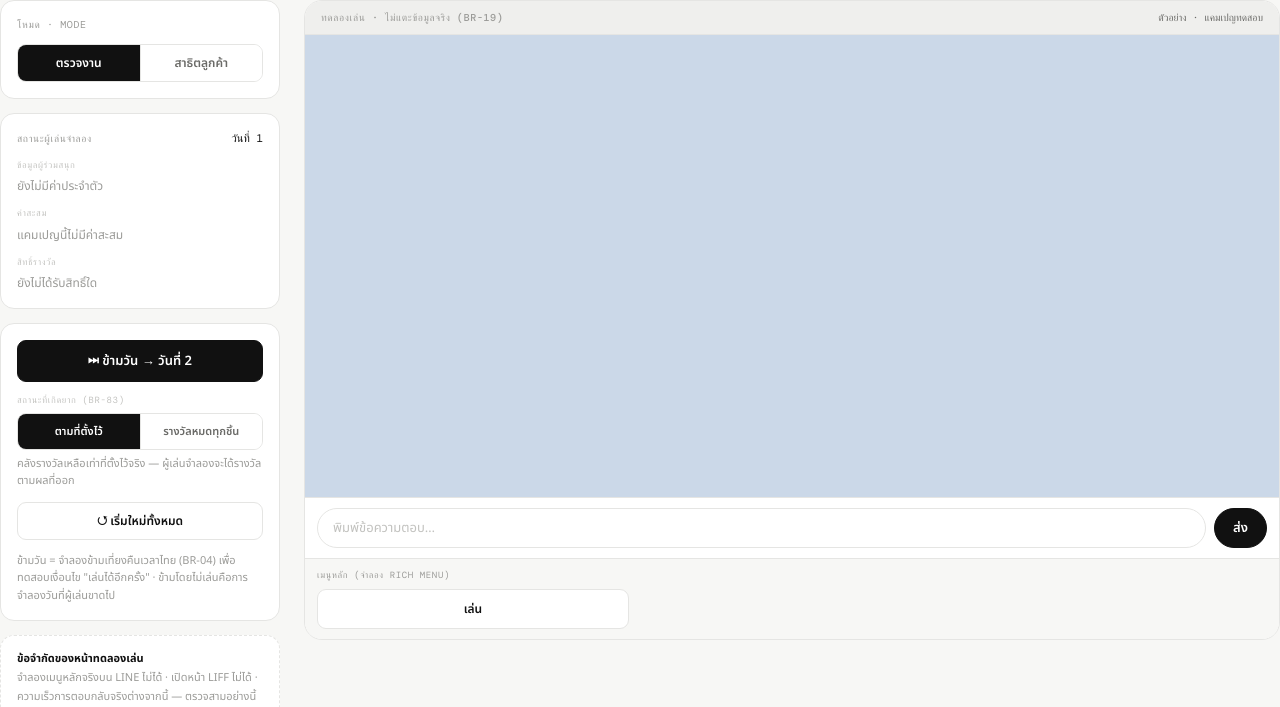
พิมพ์คุยกับกติกา › ข้อความของเราขึ้นก่อนคำตอบเสมอ
In the field with placeholder "พิมพ์ข้อความตอบ…": (762, 528) [317,508,1206,548], type "เล่น"
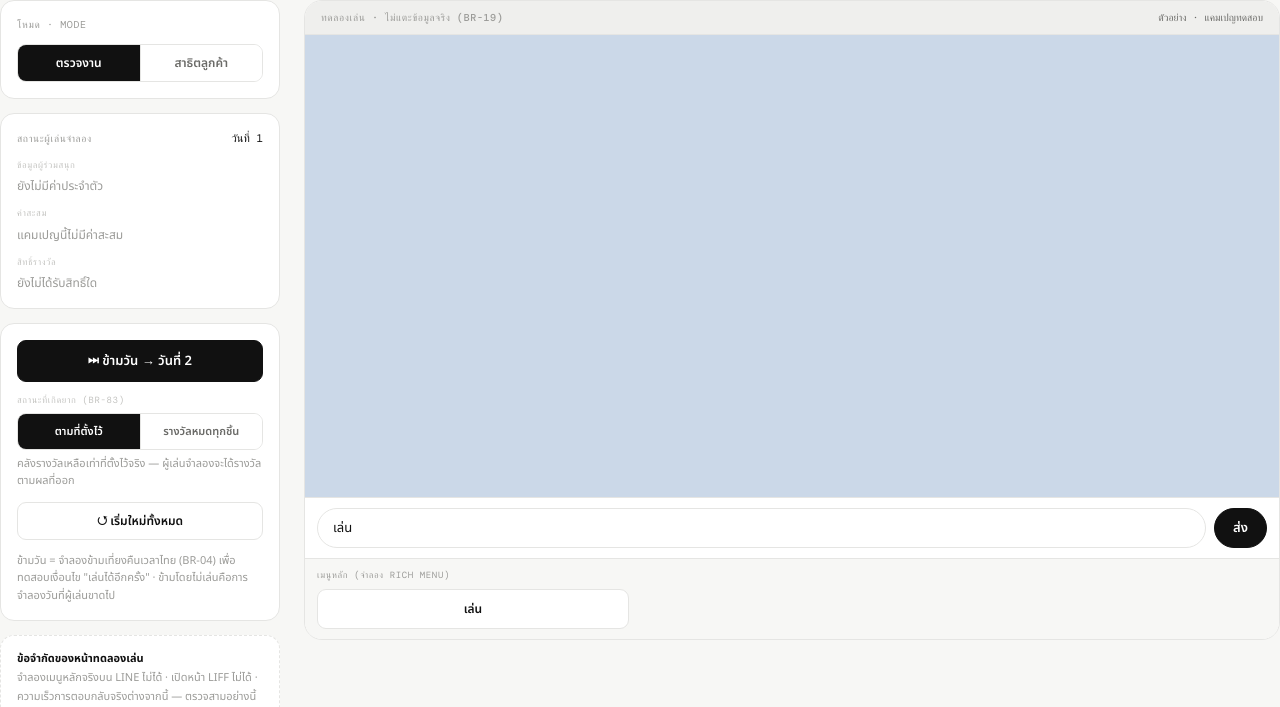
Click the button "ส่ง": (1241, 528) [1214,508,1267,548]
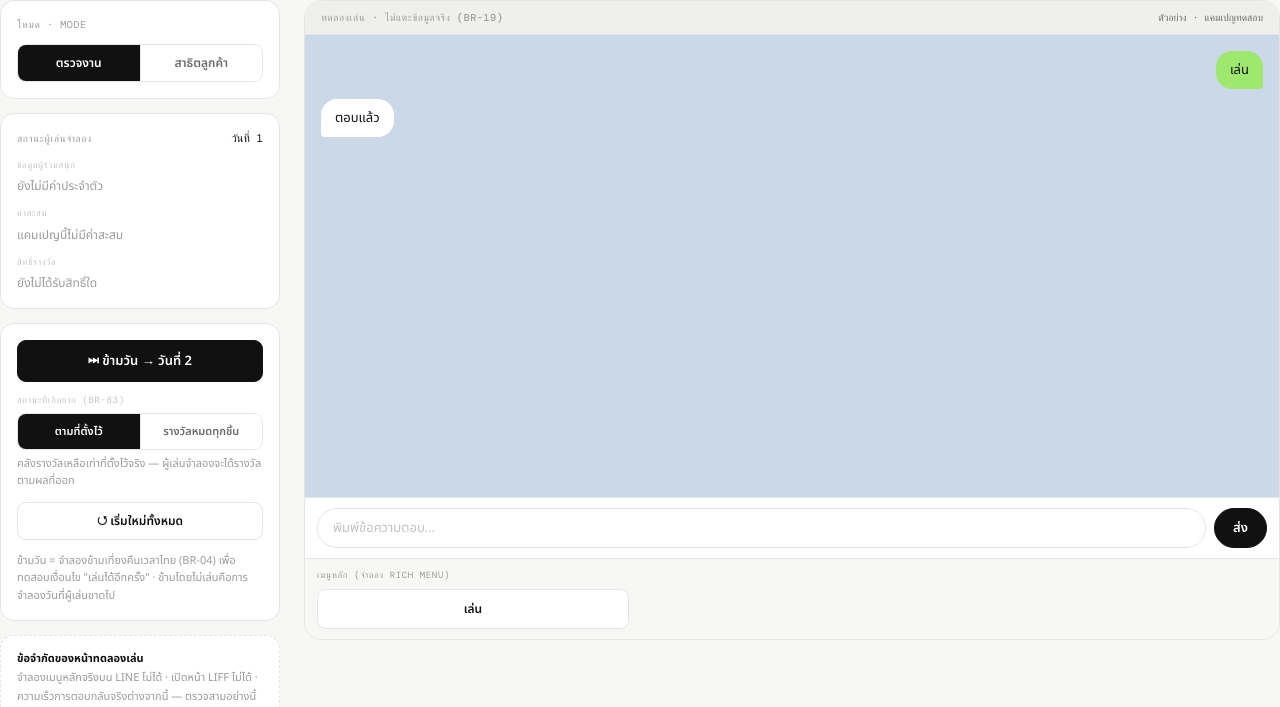
expect the text "ตอบแล้ว" is shown: met, box [321,99,394,137]
